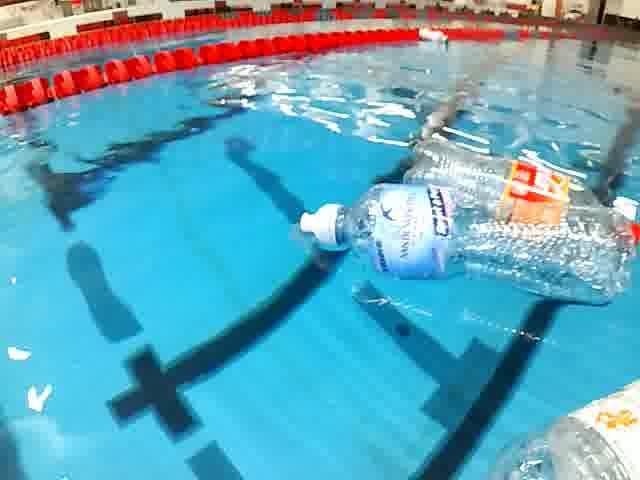Bottle: (294, 184, 628, 314), (397, 132, 640, 258), (455, 373, 640, 480), (415, 25, 453, 48)
